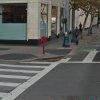Crosswalk: (2, 54, 53, 99)
